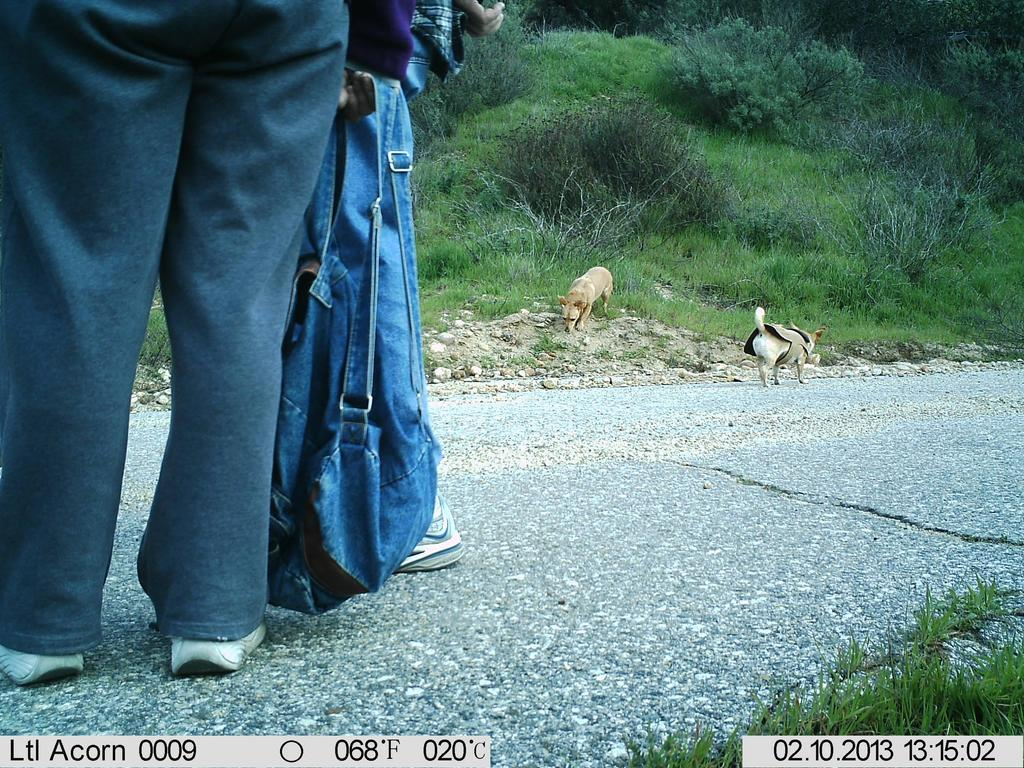dog: (743, 306, 827, 389), (555, 251, 619, 340)
